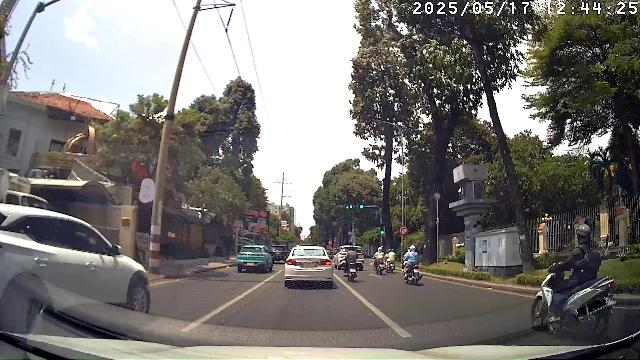123b-cam-re-phai: (398, 226, 408, 234)
